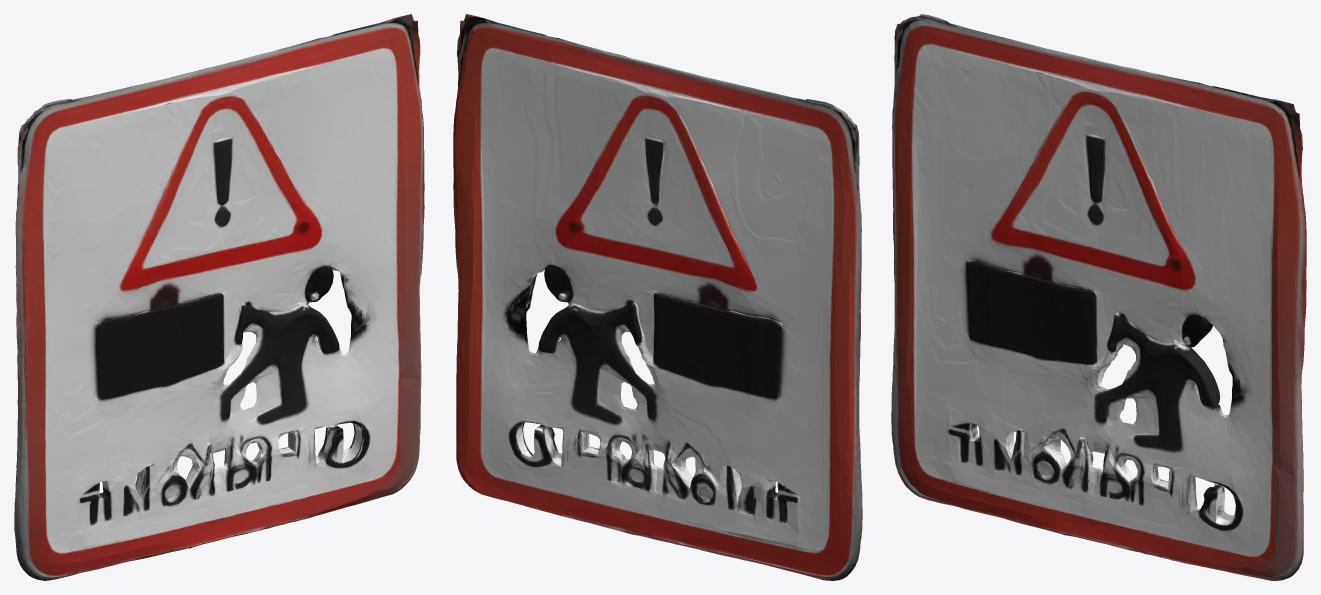
The picture shows the model from 3 angles, left to right: view 1: azimuth 30°, elevation 25°; view 2: azimuth 150°, elevation 25°; view 3: azimuth 330°, elevation 25°; orthographic projection.
Parts seen in each view (by area): view 1: world; view 2: world; view 3: world.
Boxes of the visible parts, bbox=[...] form: world: bbox=[14, 14, 424, 580]; world: bbox=[453, 14, 862, 580]; world: bbox=[891, 14, 1306, 580].
Bounding box in the file's own units: 0.8901 × 0.9964 × 0.0459.
Materials: 1 (1 with a texture image).
